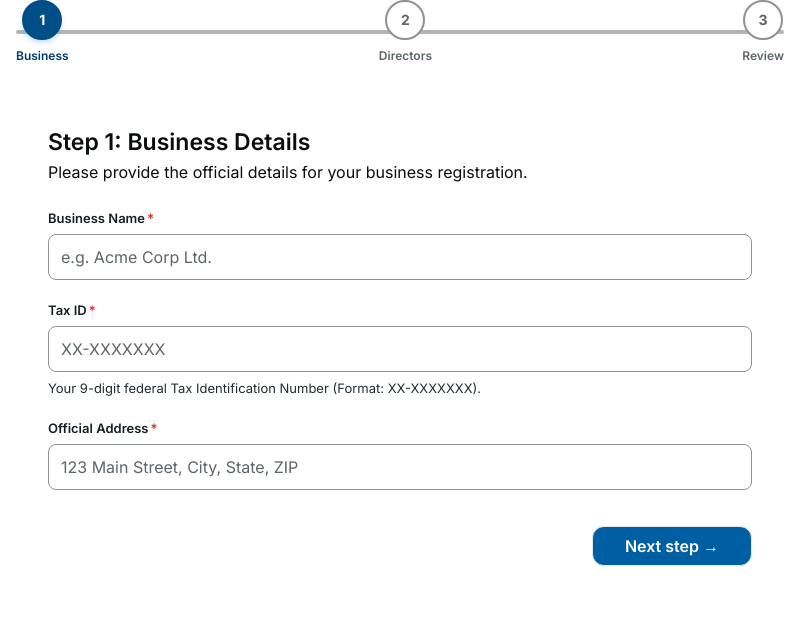
Wizard Component Integration › should show validation errors in Step 1 for invalid input
The width and height of the screenshot is (801, 617).
Note: Trigger form submission to run validation
Click the button "Next step →" at (672, 546), box [592,526,752,566]
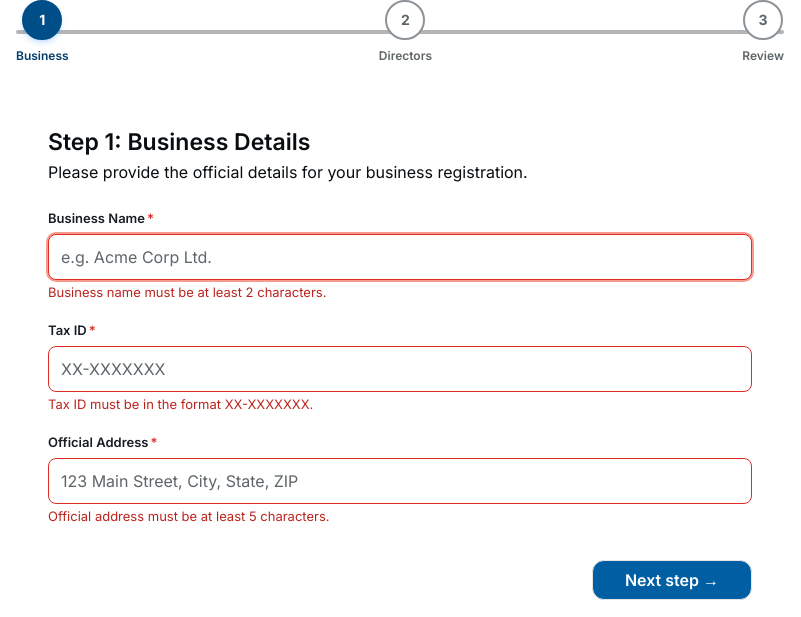
Now the text "Business name must be at least 2 characters." is shown, box [48,282,326,302]
Now the text "Tax ID must be in the format XX-XXXXXXX." is shown, box [48,394,313,414]
Now the text "Official address must be at least 5 characters." is shown, box [48,506,330,526]
